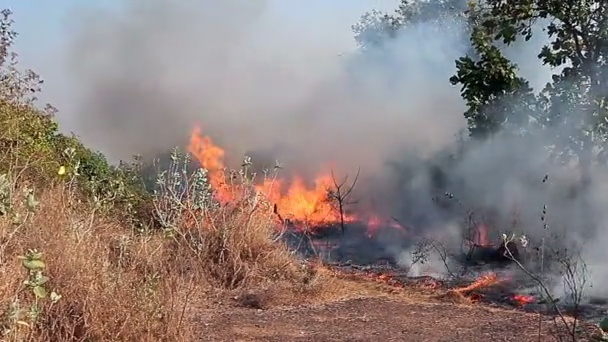fire: (279, 177, 329, 221), (190, 131, 224, 194), (59, 166, 65, 174)
